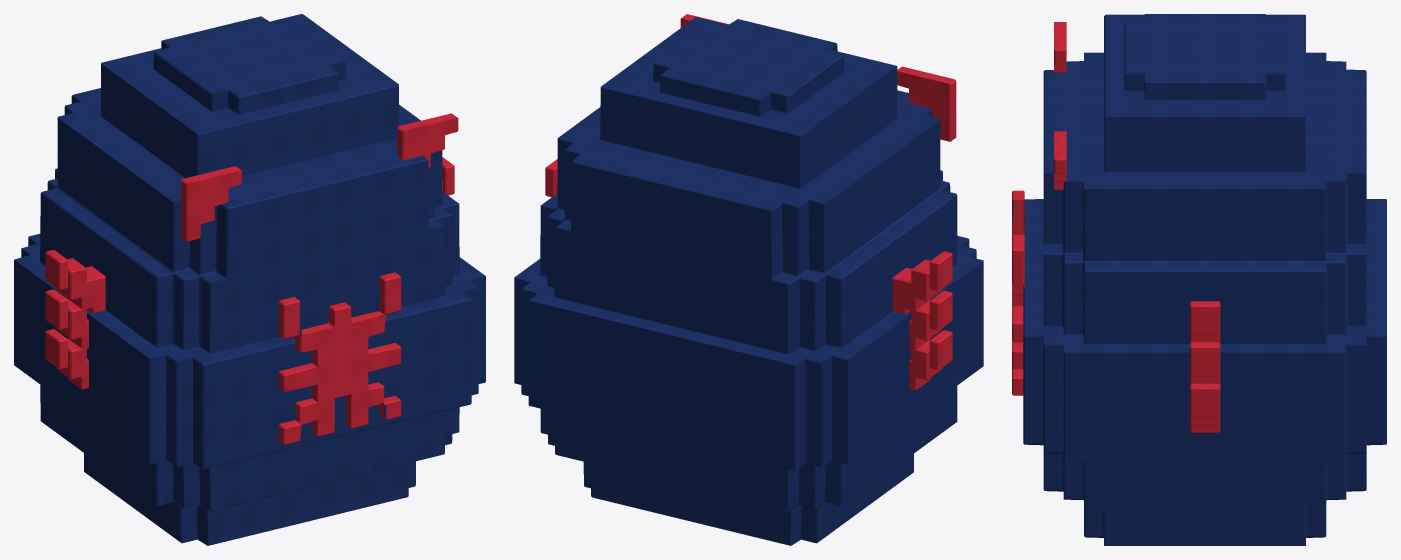
The model's file is SpiderMan2099_Egg.fbx.
The picture shows the model from 3 angles, left to right: view 1: azimuth 30°, elevation 25°; view 2: azimuth 150°, elevation 25°; view 3: azimuth 270°, elevation 25°; orthographic projection. The views are drawn at different scales.
Parts seen in each view (by area): view 1: SpiderMan2099_Egg; view 2: SpiderMan2099_Egg; view 3: SpiderMan2099_Egg.
Boxes of the visible parts, x1,y1,x2,y2 form: SpiderMan2099_Egg: [14, 14, 485, 545]; SpiderMan2099_Egg: [514, 14, 983, 545]; SpiderMan2099_Egg: [1012, 14, 1386, 545].
Size of the model in its own units: 314 by 320 by 247.
Materials: 2 (2 with a texture image).
